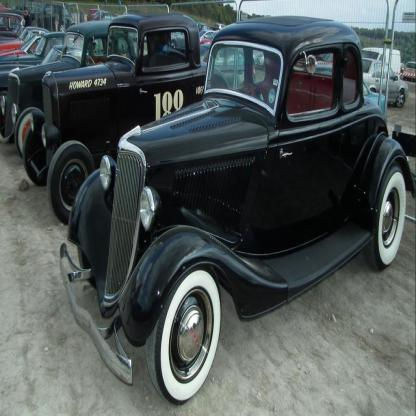Car: (0, 5, 415, 406)
